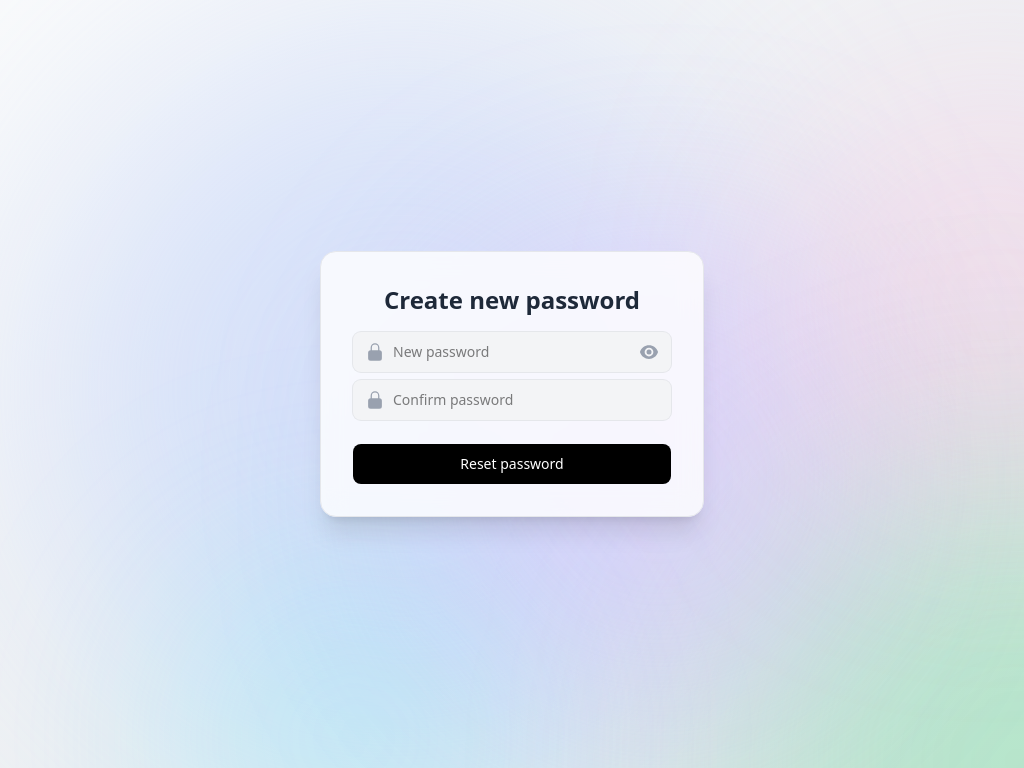
Test: ResetPassword › rejects weak password and mismatched confirmation
Type "weak" into the password field with placeholder "New password" at (512, 352), box [353,332,671,372]
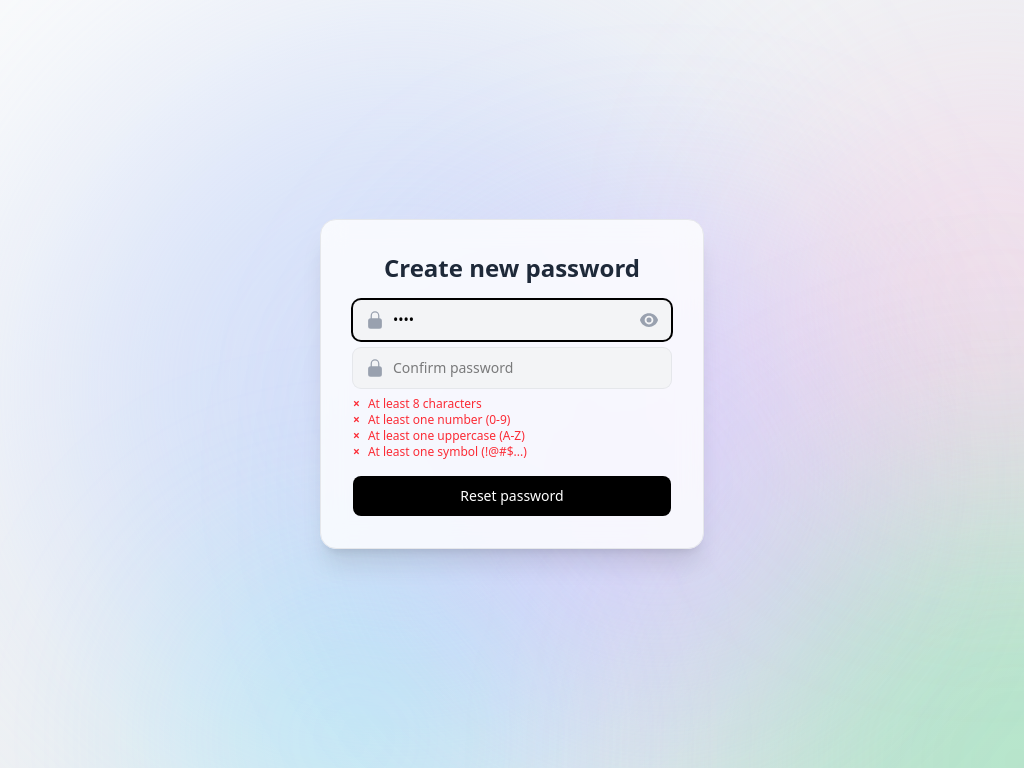
Click the button "Reset password" at (512, 496), box [353,476,671,516]
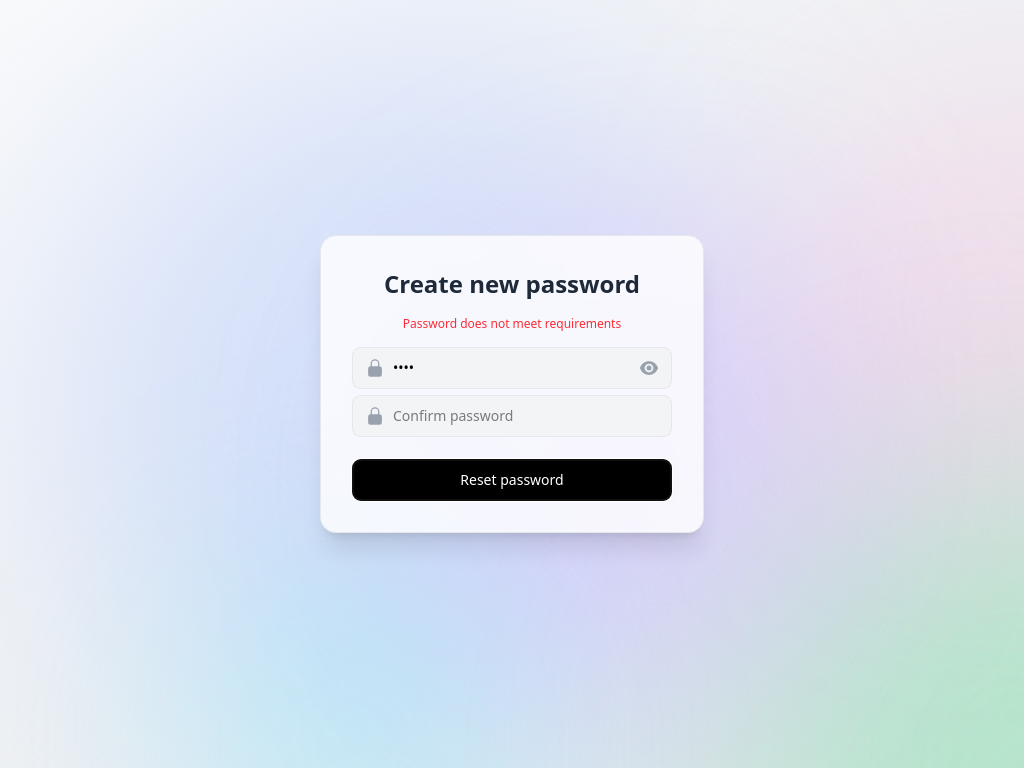
Result: the text "Password does not meet requirements" is shown at [403,315,621,332]
Clear the password field with placeholder "New password" at (512, 368), box [353,348,671,388]
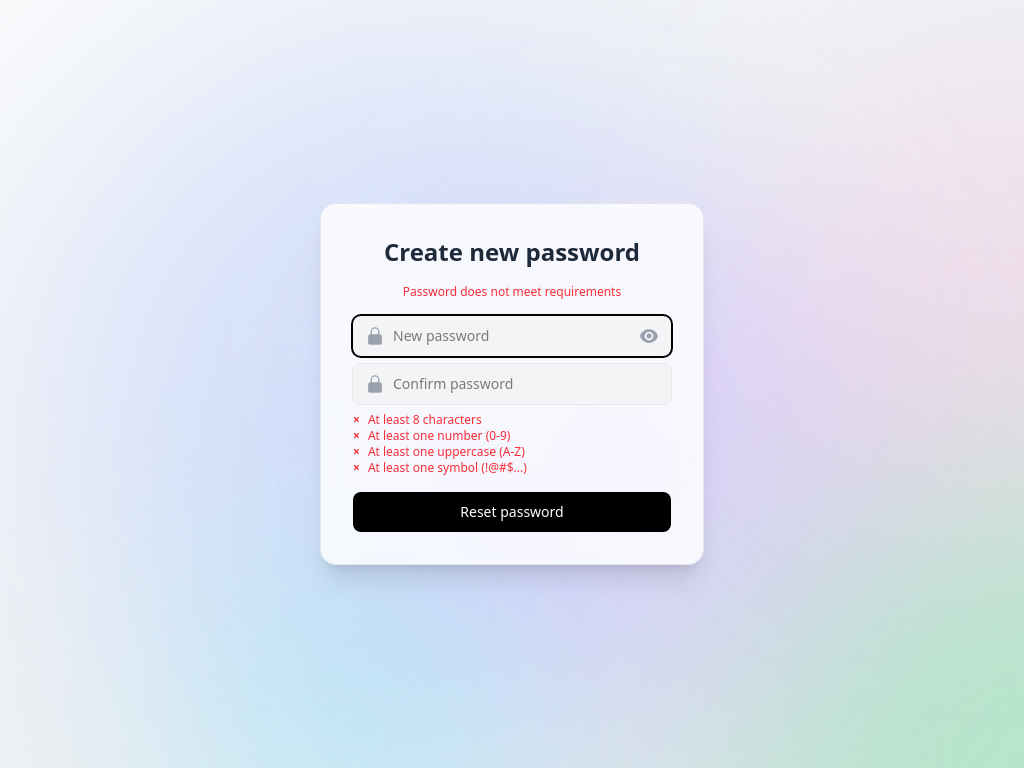
Type "Str0ng!Pass" into the password field with placeholder "New password" at (512, 336), box [353,316,671,356]
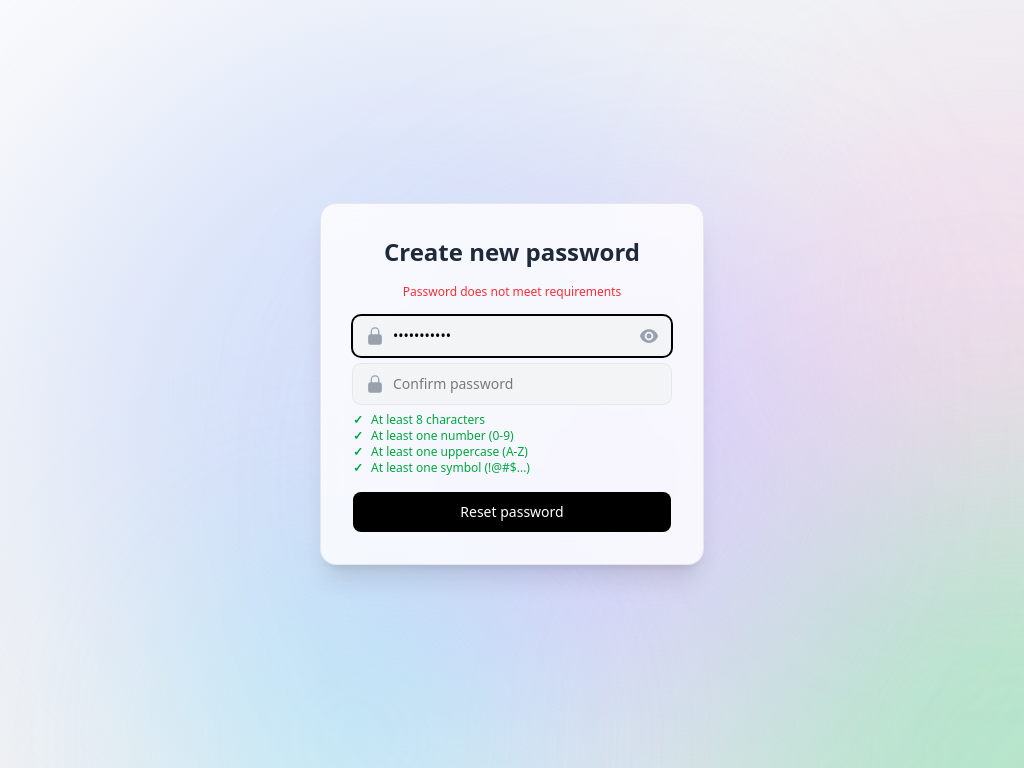
Type "Different!1" into the password field with placeholder "Confirm password" at (512, 384), box [353,364,671,404]
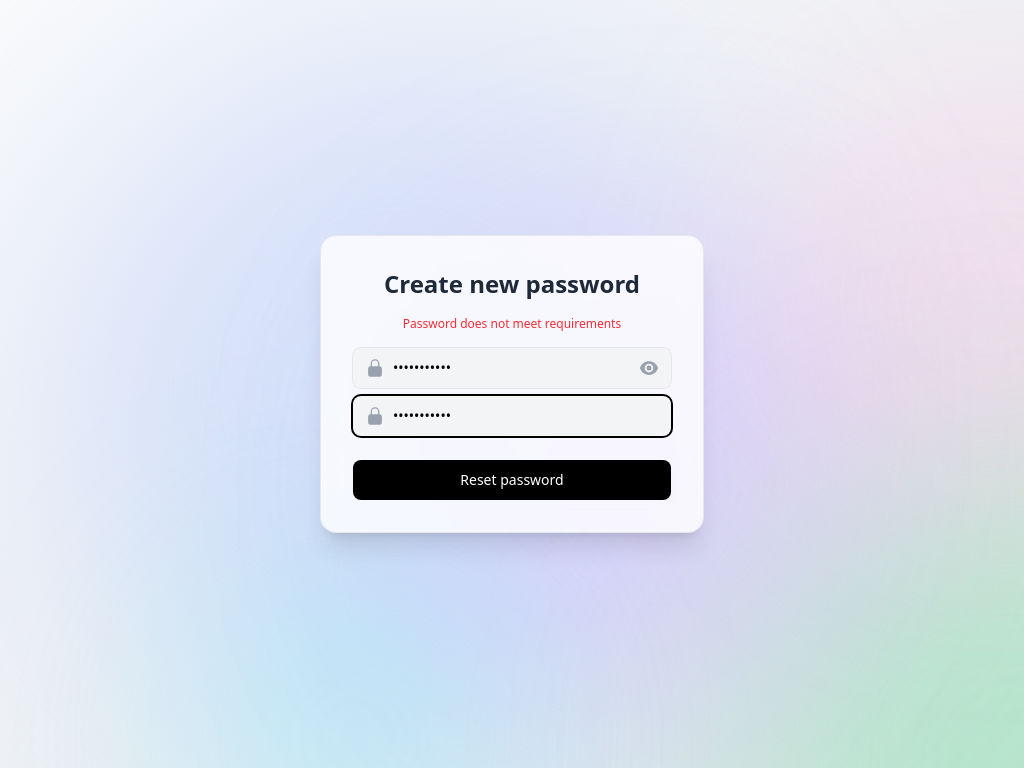
Click the button "Reset password" at (512, 480), box [353,460,671,500]
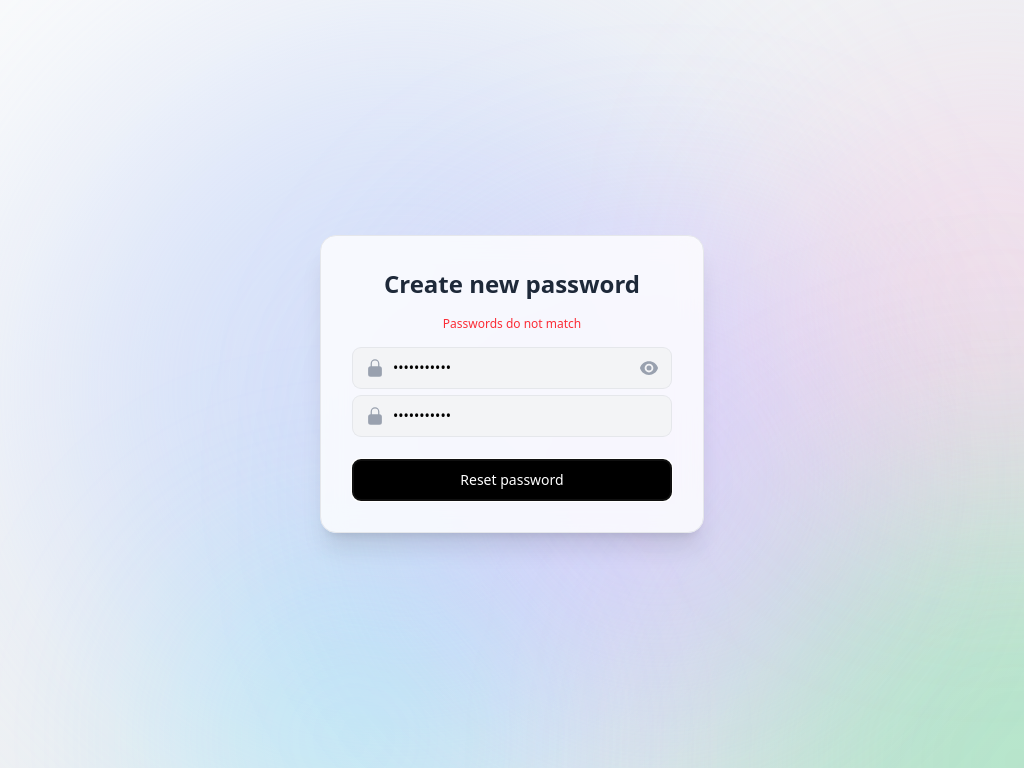
Result: the text "Passwords do not match" is shown at [443,315,581,332]
